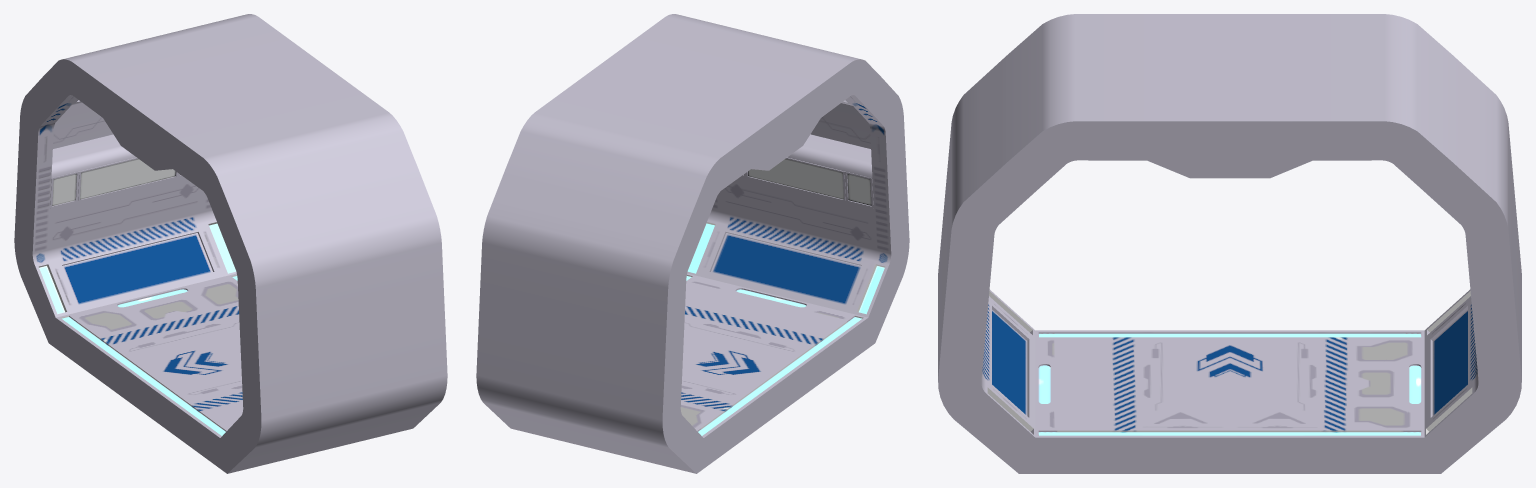
File: SM_CoridorWall.fbx
3 views of the same model, side by side, from view 1: azimuth 30°, elevation 25°; view 2: azimuth 150°, elevation 25°; view 3: azimuth 270°, elevation 25° (orthographic). The views are drawn at different scales.
Parts seen in each view (by area): view 1: SM_CoridorWall_LOD0; view 2: SM_CoridorWall_LOD0; view 3: SM_CoridorWall_LOD0.
Boxes of the visible parts, box(x1,y1,x2,y2) form: SM_CoridorWall_LOD0: box(14, 14, 447, 473); SM_CoridorWall_LOD0: box(476, 14, 909, 473); SM_CoridorWall_LOD0: box(938, 14, 1521, 473).
Size of the model in its own units: 216 by 498 by 332.
Materials: 1 (1 with a texture image).
